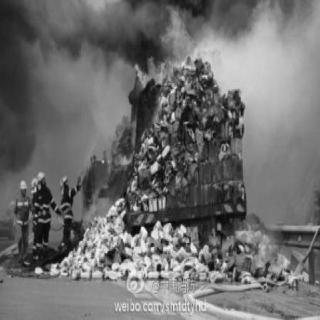Fire: (130, 5, 192, 86)
Smoke: (11, 5, 125, 58), (4, 64, 36, 158), (197, 3, 261, 33)
other: (9, 167, 76, 257), (128, 198, 240, 240)
